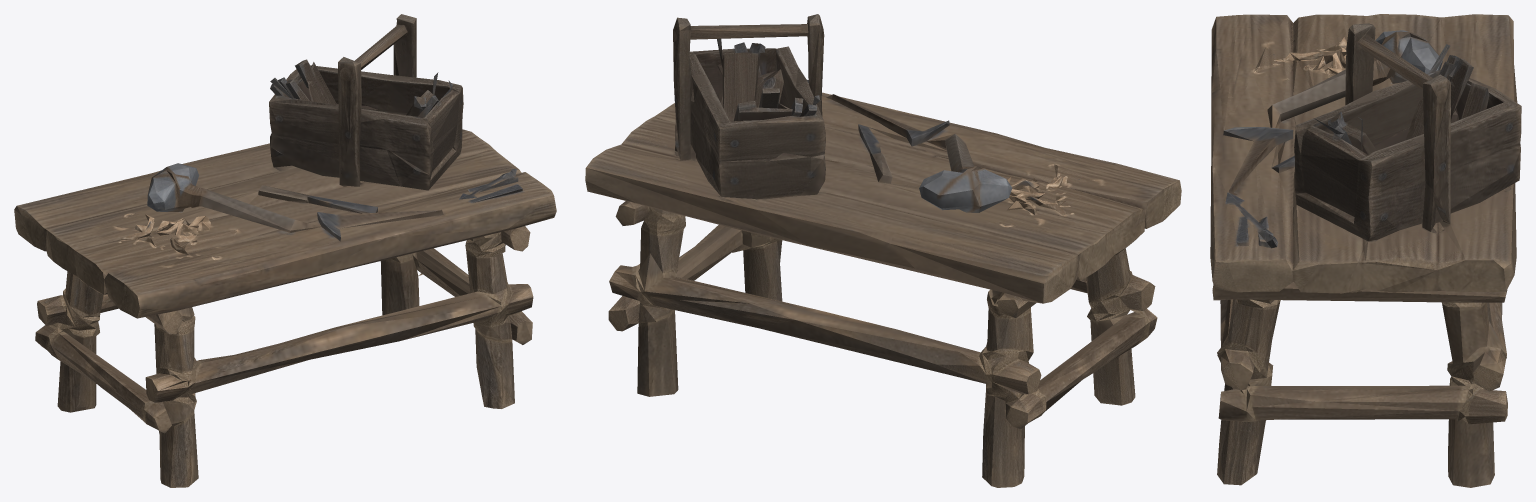
File: workbench.fbx
The picture shows the model from 3 angles, left to right: view 1: azimuth 30°, elevation 25°; view 2: azimuth 150°, elevation 25°; view 3: azimuth 270°, elevation 25°; orthographic projection. The views are drawn at different scales.
Parts seen in each view (by area): view 1: output_unwrapped; view 2: output_unwrapped; view 3: output_unwrapped.
Boxes of the visible parts, x1,y1,x2,y2 form: output_unwrapped: (14, 14, 556, 487); output_unwrapped: (585, 14, 1181, 487); output_unwrapped: (1210, 14, 1521, 487).
Bounding box in the file's own units: 190 × 141 × 100.
Materials: 1 (1 with a texture image).
